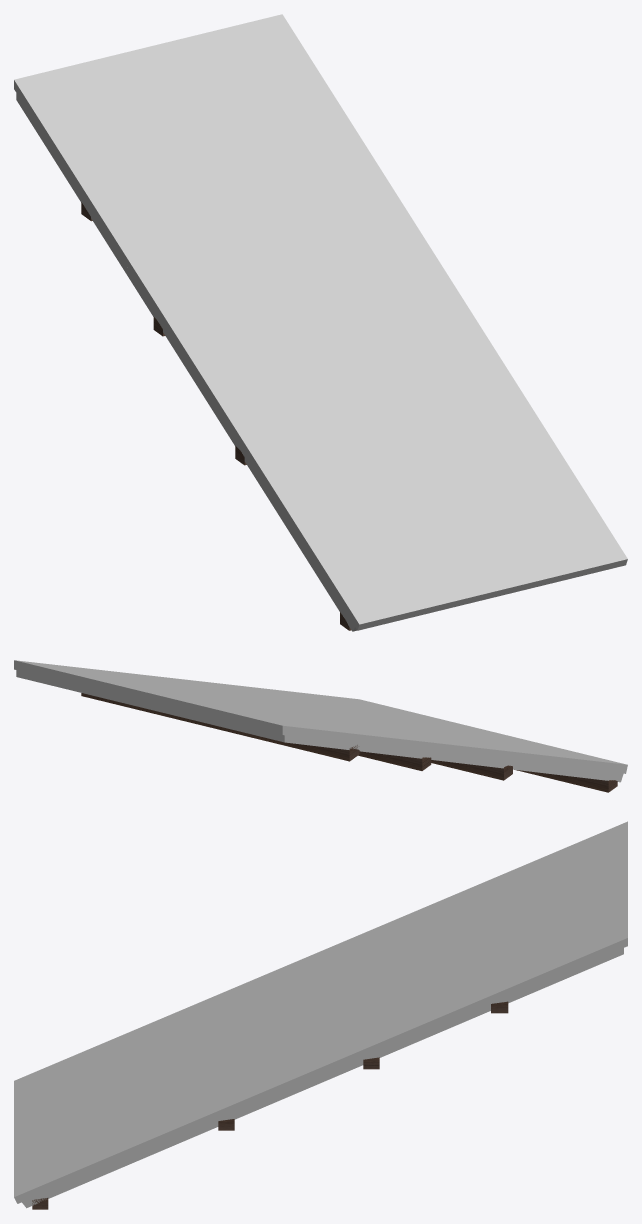
File: kawara_1x4t_a1middle.fbx
3 views of the same model, one above another, from view 1: azimuth 30°, elevation 25°; view 2: azimuth 150°, elevation 25°; view 3: azimuth 270°, elevation 25° (orthographic). The views are drawn at different scales.
Visible parts, largest first — view 1: kawara_1x4t_a1middle; view 2: kawara_1x4t_a1middle; view 3: kawara_1x4t_a1middle.
Boxes of the visible parts, x1,y1,x2,y2 form: kawara_1x4t_a1middle: [14, 14, 627, 631]; kawara_1x4t_a1middle: [14, 660, 627, 792]; kawara_1x4t_a1middle: [14, 821, 627, 1209].
Bounding box in the file's own units: 220 × 239 × 490.
